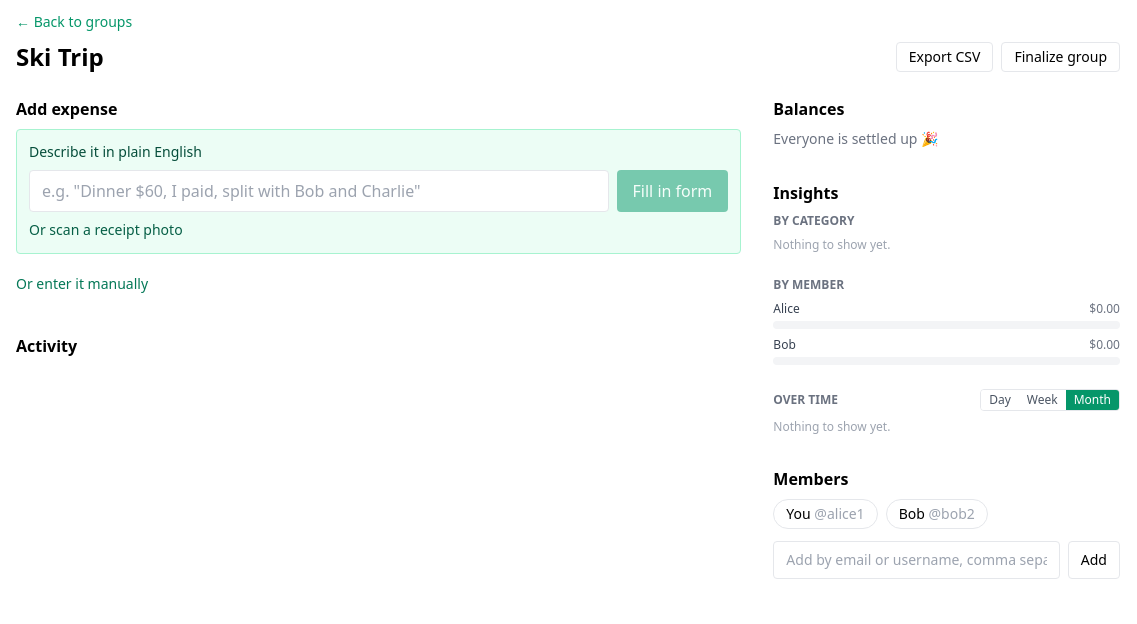
Test: GroupPage - natural-language expense entry › fills in the form from a parsed sentence, without submitting an expense
Expected: the heading "Ski Trip" is shown, [16,41,104,73]
Type "Dinner $60, Bob paid, split with everyone" into the field with placeholder "e.g. \"Dinner $60, I paid, split with Bob and Charlie\"" at (319, 191), box [29,170,608,212]
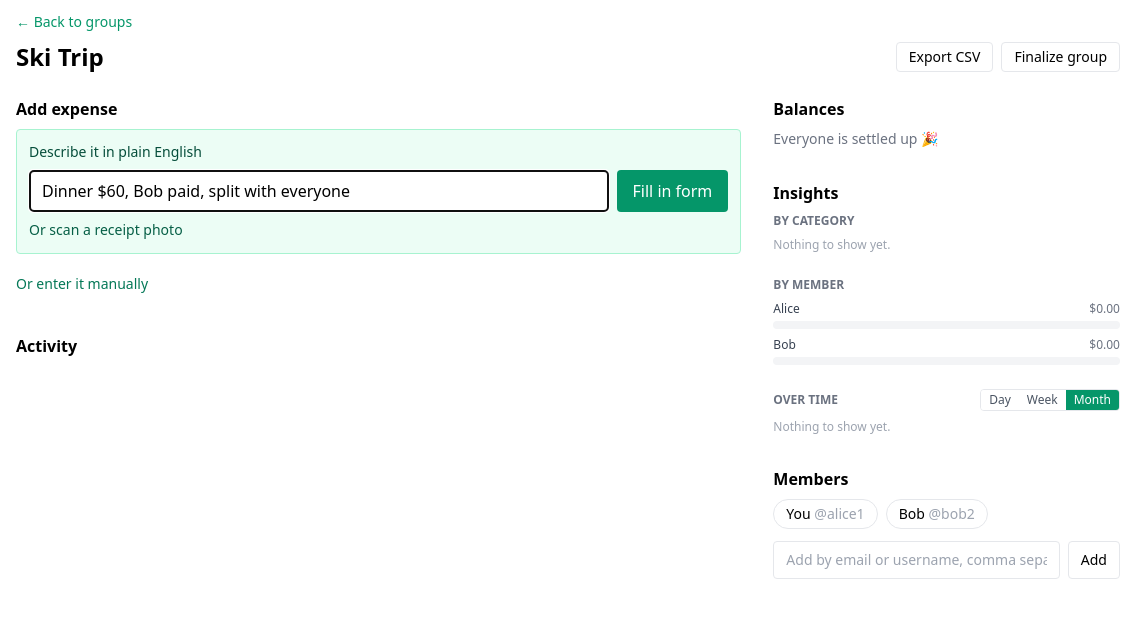
Click the button "Fill in form" at (672, 191), box [616,170,728,212]
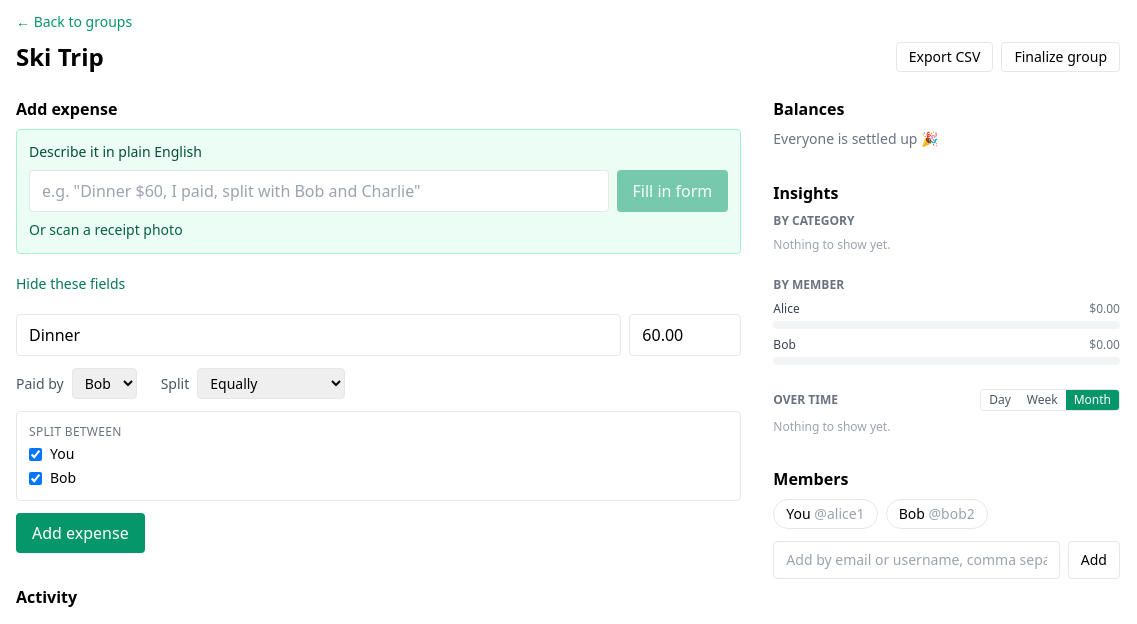
Expected: the field with placeholder "Description" holds "Dinner", [16,314,621,356]
Expected: the number field with placeholder "Amount" holds "60", [629,314,741,356]
Expected: the dropdown named "Paid by" shows "Bob", [72,368,137,399]
